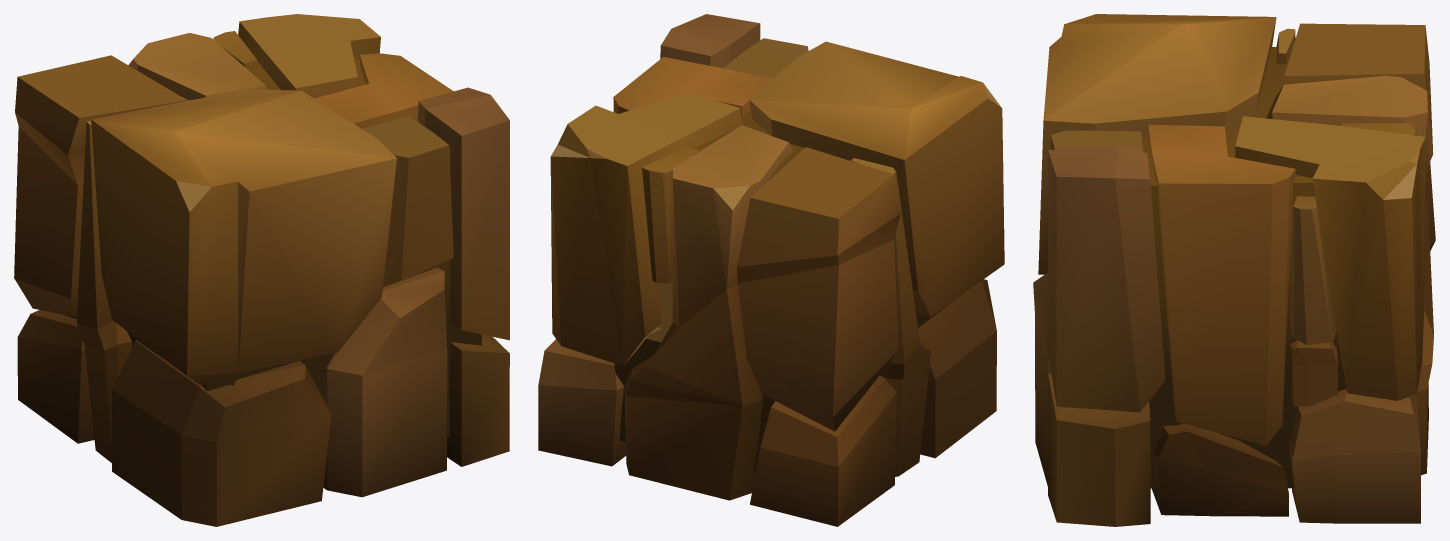
The model's file is ENV_DragonTeam_Cube_01.fbx.
3 views of the same model, side by side, from view 1: azimuth 30°, elevation 25°; view 2: azimuth 150°, elevation 25°; view 3: azimuth 270°, elevation 25° (orthographic). The views are drawn at different scales.
Visible parts, largest first — view 1: ENV_DragonTeam_Cube_01; view 2: ENV_DragonTeam_Cube_01; view 3: ENV_DragonTeam_Cube_01.
Boxes of the visible parts, x1,y1,x2,y2 form: ENV_DragonTeam_Cube_01: (14, 14, 509, 526); ENV_DragonTeam_Cube_01: (538, 14, 1004, 526); ENV_DragonTeam_Cube_01: (1033, 14, 1435, 526).
Bounding box in the file's own units: 417 × 413 × 420.
